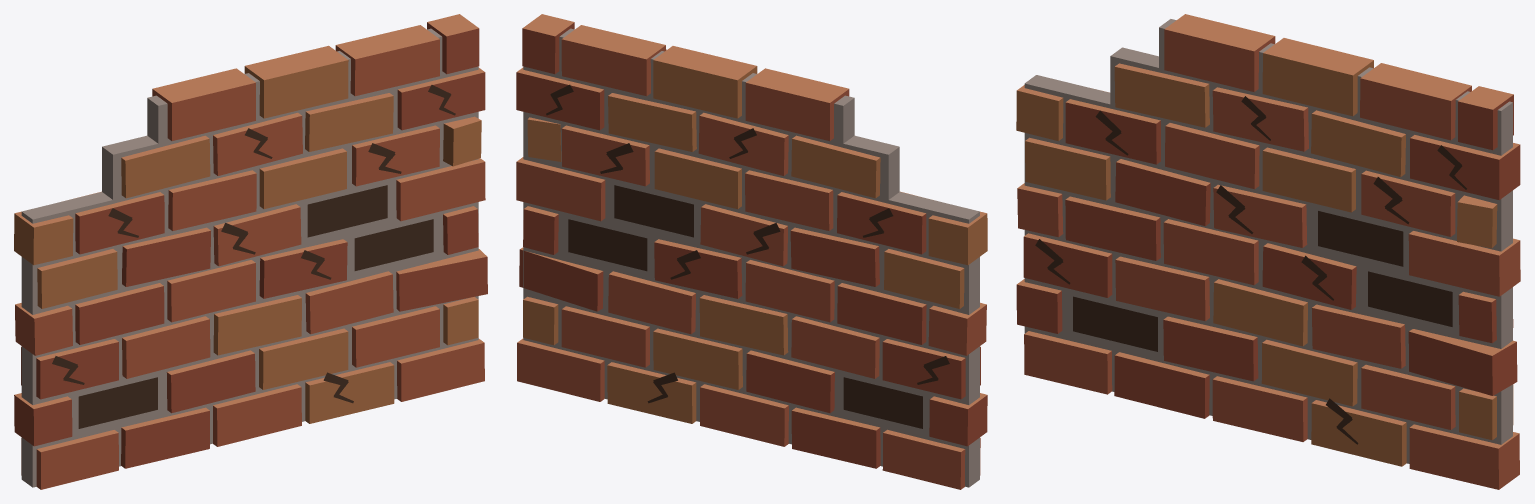
Rendered from wall_brick_crack2.glb.
3 renders of one model, left to right at view 1: azimuth 30°, elevation 25°; view 2: azimuth 150°, elevation 25°; view 3: azimuth 330°, elevation 25°, orthographic. The views are drawn at different scales.
Parts seen in each view (by area): view 1: Body; view 2: Body; view 3: Body.
Boxes of the visible parts, x1,y1,x2,y2 form: Body: (14, 14, 487, 489); Body: (516, 14, 987, 489); Body: (1016, 14, 1520, 489).
Size of the model in its own units: 4.01 by 3 by 0.376.
